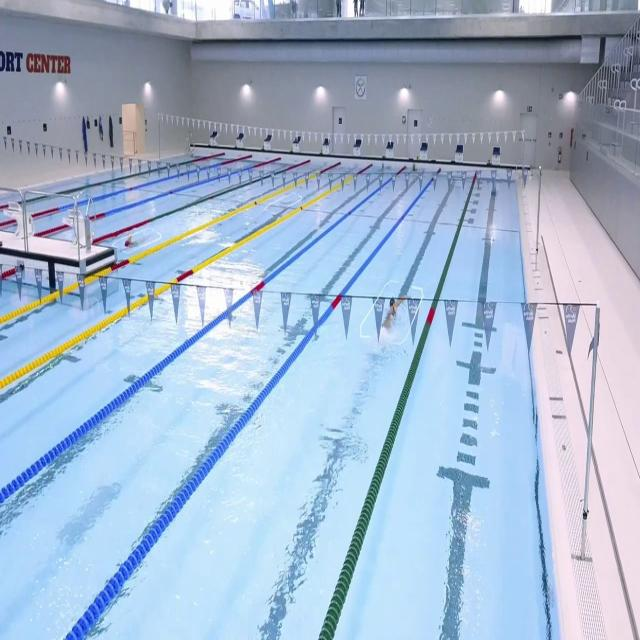Swimming: (382, 294, 409, 333), (124, 235, 151, 248)
